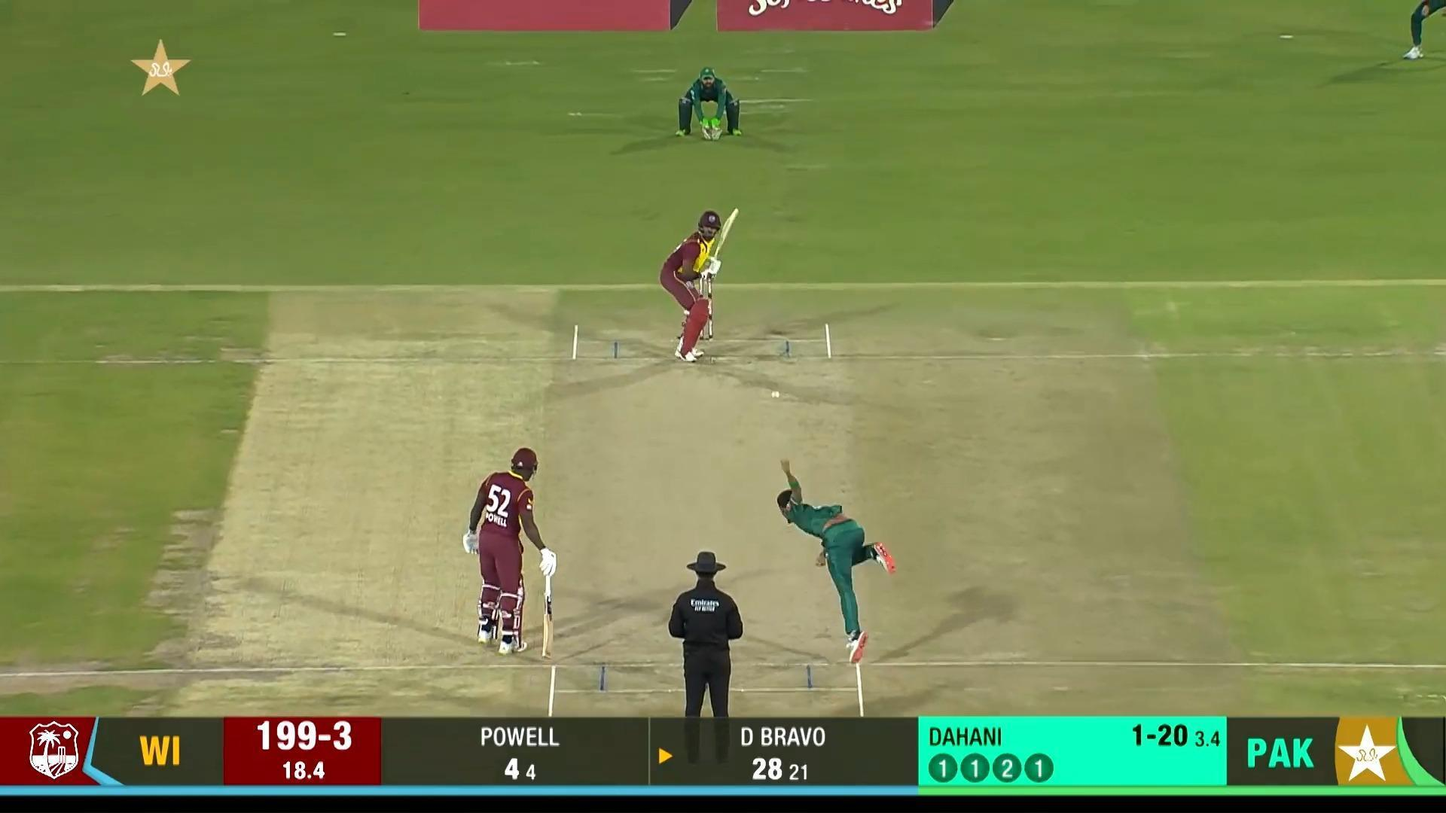BM 1: (659, 206, 741, 364)
BO: (774, 453, 898, 667)
